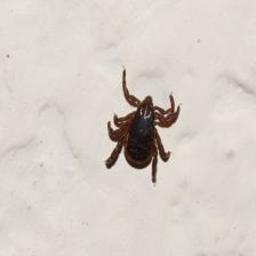Rhipicephalus sanguineus: (104, 67, 182, 183)
